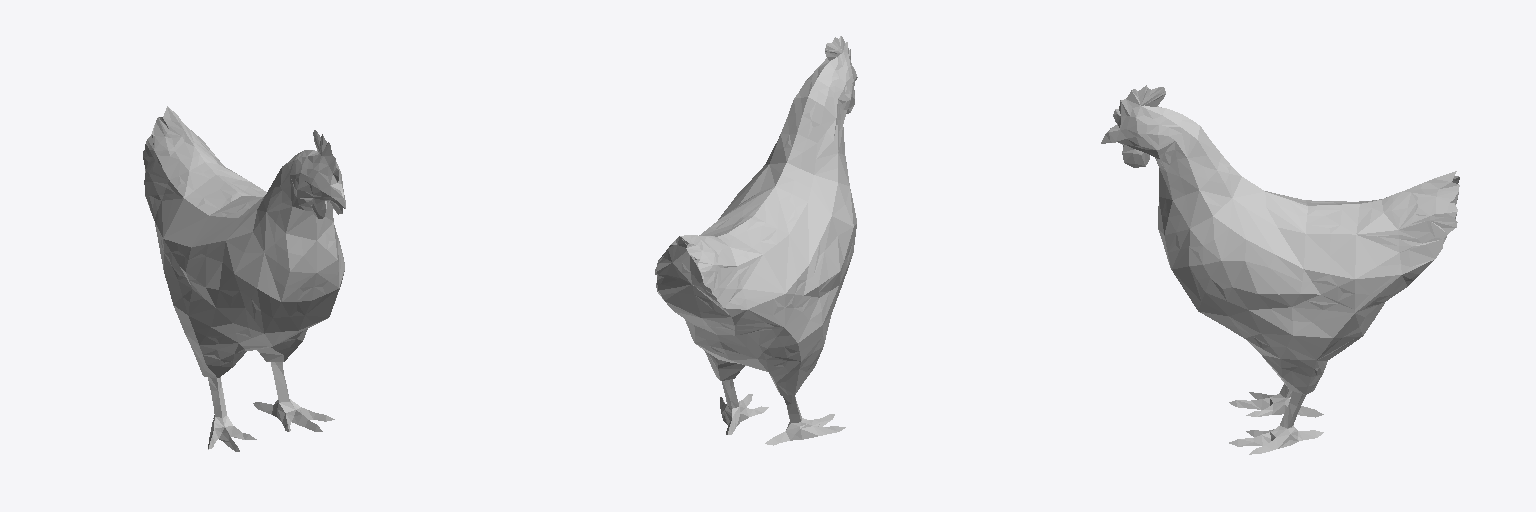
File: chicken.obj
The picture shows the model from 3 angles: view 1: azimuth 30°, elevation 25°; view 2: azimuth 150°, elevation 25°; view 3: azimuth 270°, elevation 25°; orthographic projection.
Size of the model in its own units: 27.12 by 69.56 by 66.43.